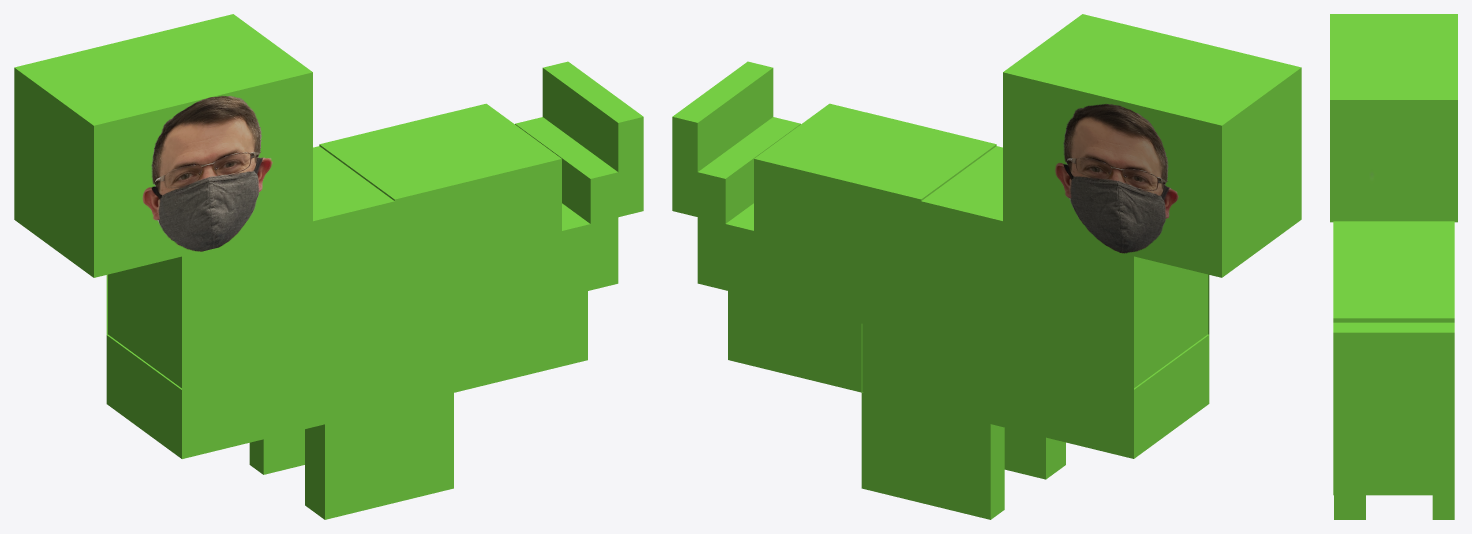
Rendered from respass_1.fbx.
The picture shows the model from 3 angles, left to right: view 1: azimuth 30°, elevation 25°; view 2: azimuth 150°, elevation 25°; view 3: azimuth 270°, elevation 25°; orthographic projection. The views are drawn at different scales.
Parts seen in each view (by area): view 1: body, head; view 2: body, head; view 3: body, head.
Boxes of the visible parts, x1=… form: body: x1=106, y1=61, x2=643, y2=519; head: x1=14, y1=14, x2=312, y2=277; body: x1=672, y1=61, x2=1209, y2=519; head: x1=1003, y1=14, x2=1301, y2=277; body: x1=1333, y1=221, x2=1454, y2=519; head: x1=1330, y1=14, x2=1457, y2=222.
Bounding box in the file's own units: 844 × 662 × 211.
2 materials, 1 textured.
